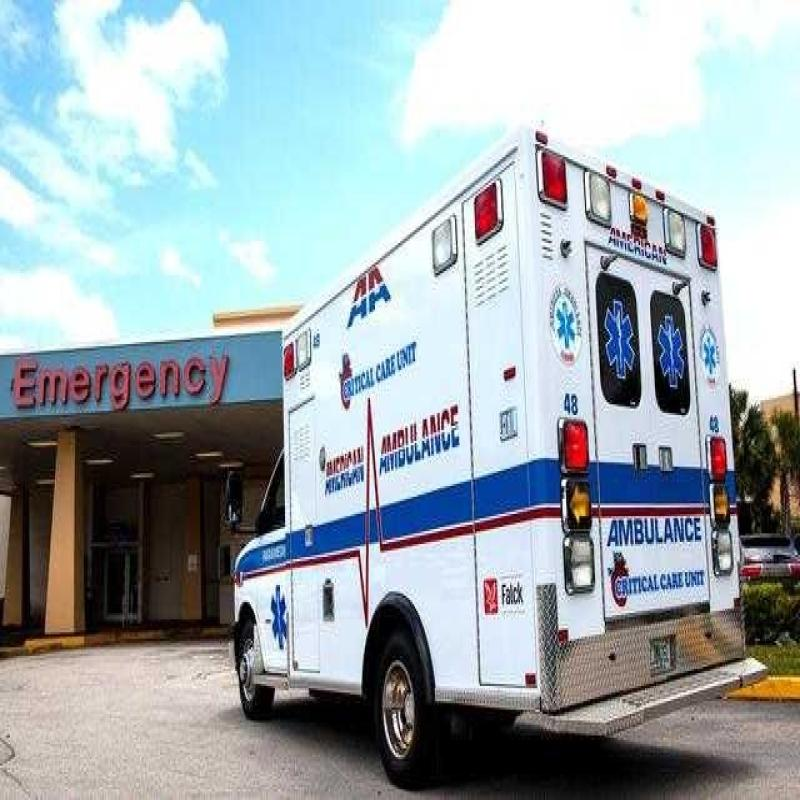ambulance: (173, 118, 749, 784)
